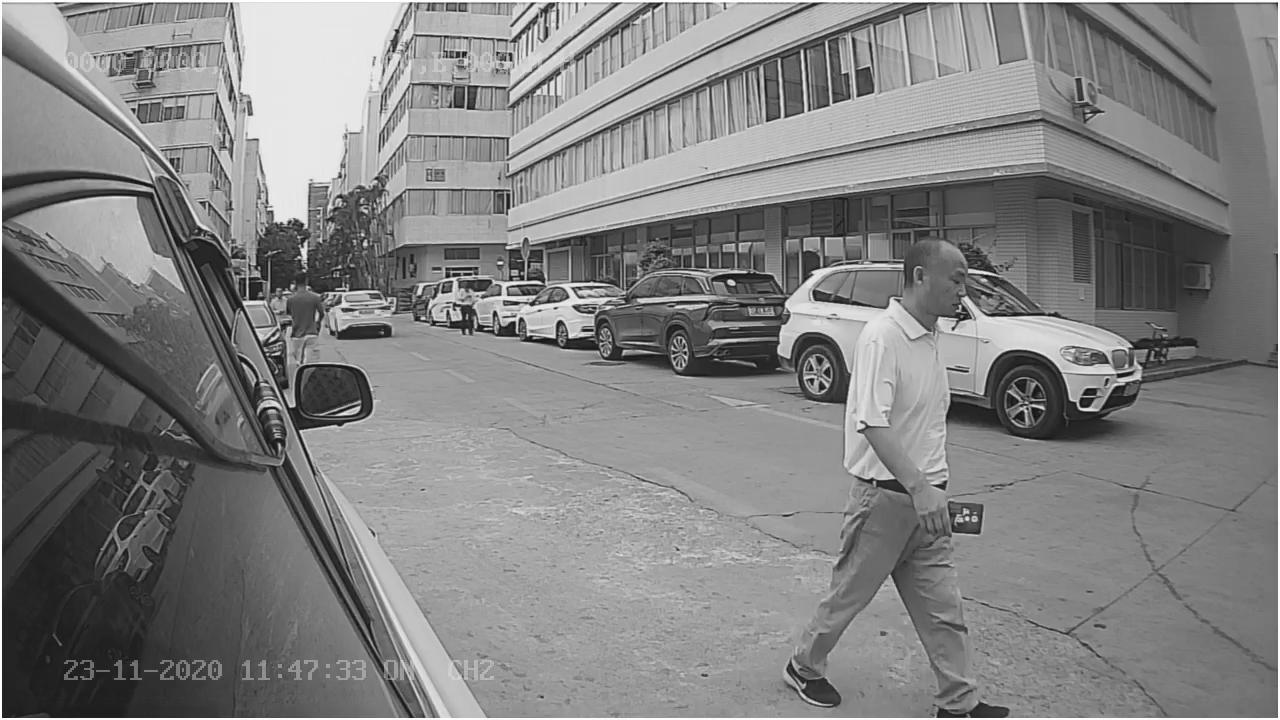person: (780, 221, 1014, 720)
